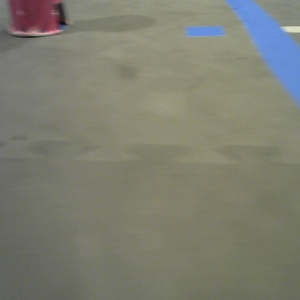middle: (1, 1, 76, 62)
